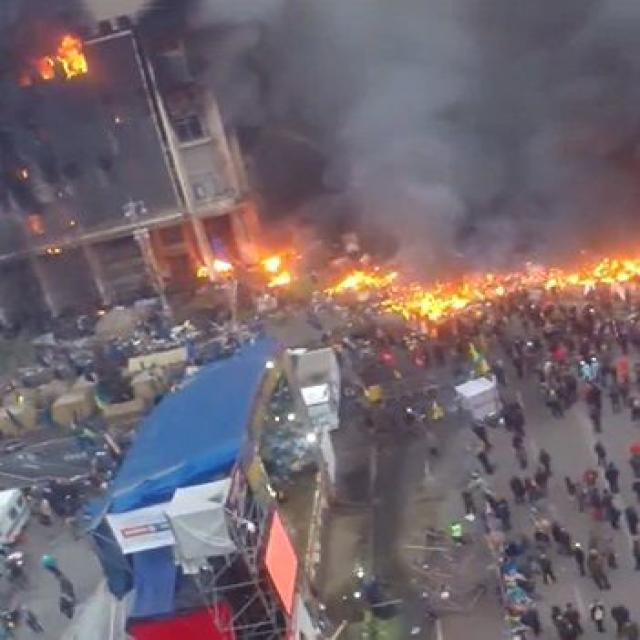Fire: (393, 257, 640, 324), (324, 260, 406, 294), (47, 30, 101, 81), (262, 248, 296, 296), (203, 248, 244, 280)
Smoke: (230, 10, 640, 244), (0, 0, 126, 199)
